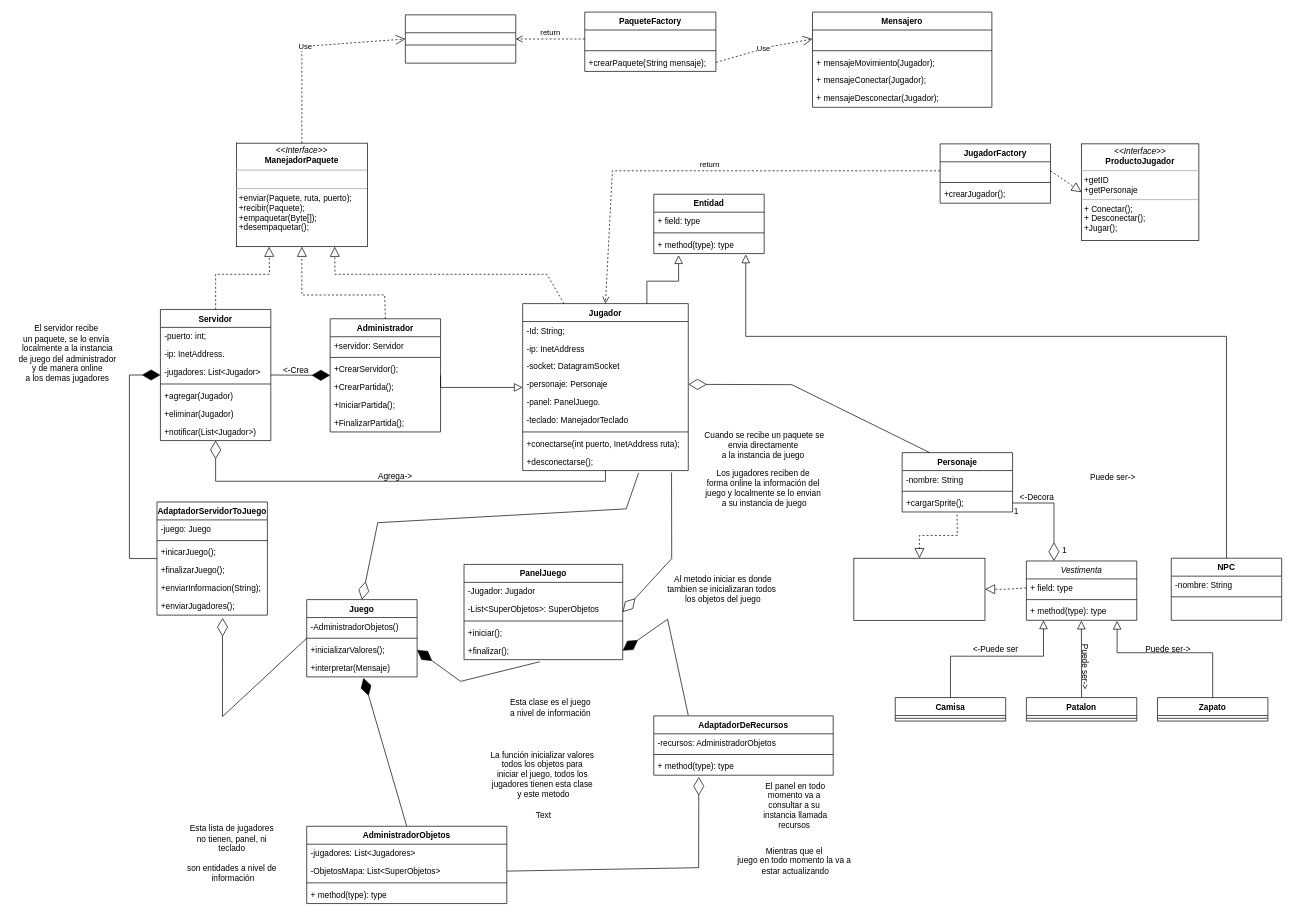
This 1294x918 diagram has some shape labels left out. Here are the shapes that lost their labels. From the top down, the centre of each, then its label:
At pixel 460 38: "DatagramPacket".
At pixel 919 589: "<<Interface>> Persona +getNombre()".
